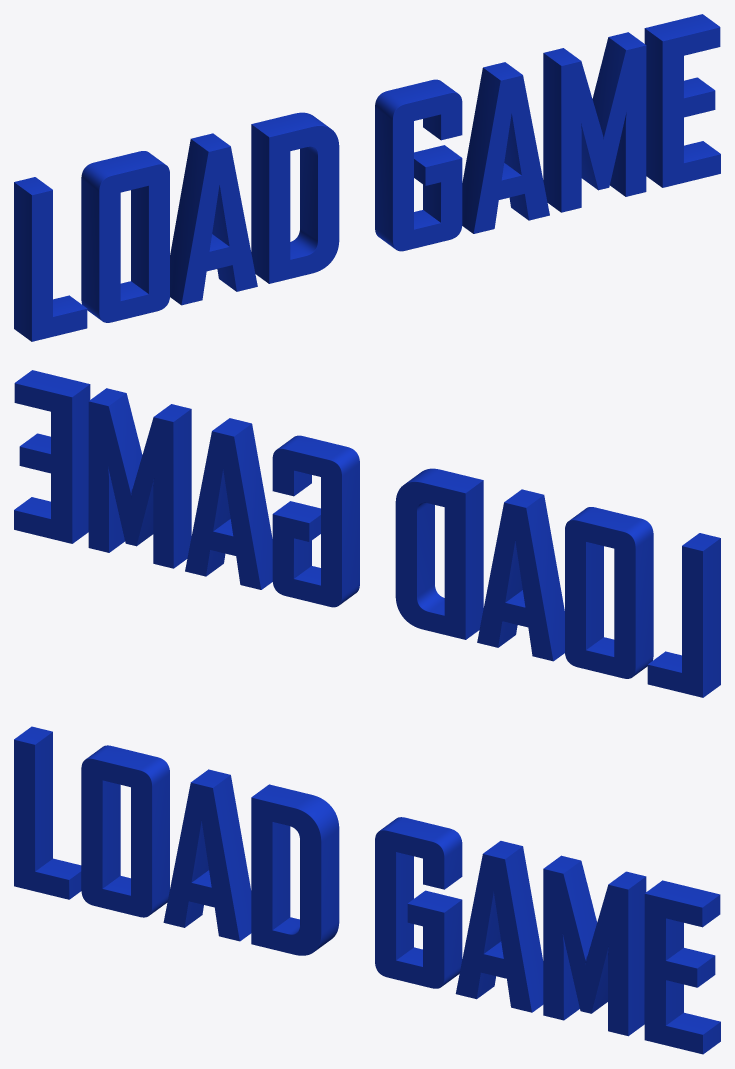
Rendered from load game.obj.
The picture shows the model from 3 angles, top to bottom: view 1: azimuth 30°, elevation 25°; view 2: azimuth 150°, elevation 25°; view 3: azimuth 330°, elevation 25°; orthographic projection.
Parts seen in each view (by area): view 1: Text; view 2: Text; view 3: Text.
Part boxes in pixels (x1,y1,x2,y2): Text: (14,14,720,341); Text: (14,370,720,697); Text: (14,726,720,1054).
Size of the model in its own units: 3.14 by 0.6411 by 0.142.
